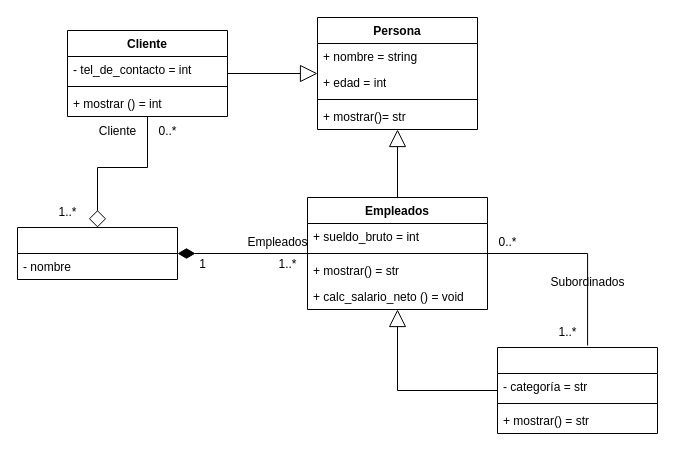
Some shapes in this 675 by 454 pixel diagram are drawn without their labels. The box of each missing label's shape, as (x1, y1, x2, y2) in pixels:
Directivos: (496, 346, 658, 434)
Empresa: (16, 226, 178, 280)
